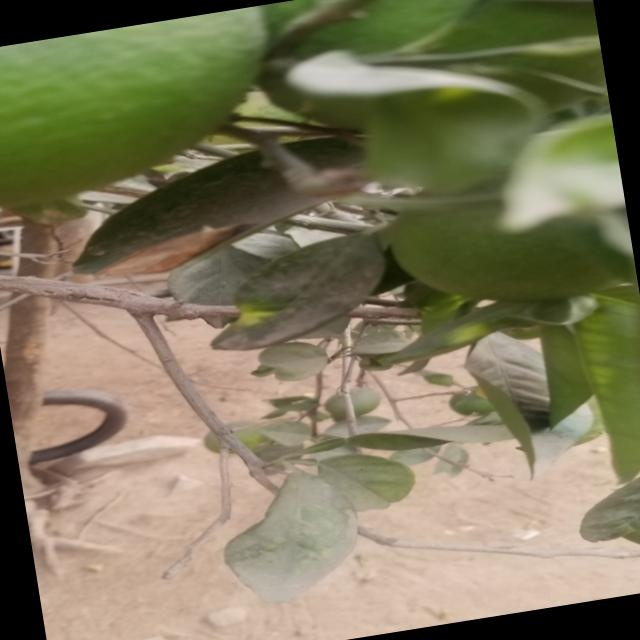agrume: (0, 0, 321, 214)
